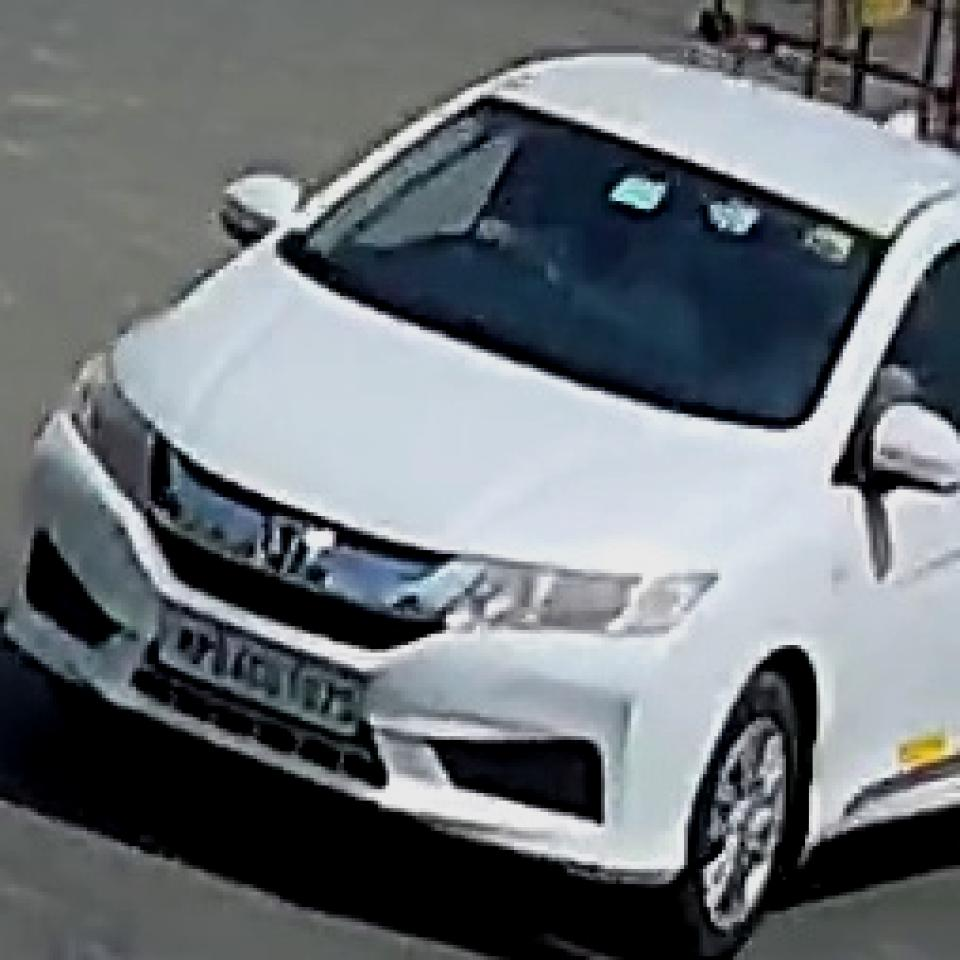head_light: (501, 564, 718, 636)
